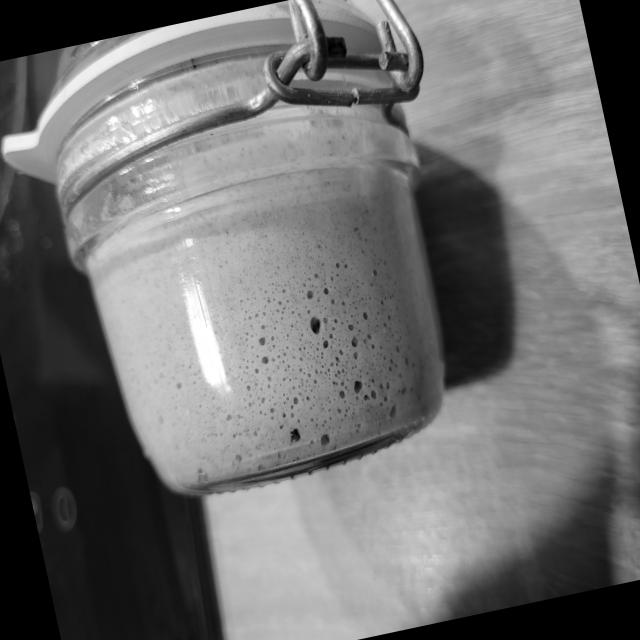bubble: (310, 316, 320, 333), (290, 428, 300, 443), (354, 380, 362, 393), (320, 434, 329, 445), (306, 289, 313, 298), (259, 336, 265, 345), (351, 337, 357, 346), (339, 390, 345, 398), (262, 356, 268, 363), (323, 340, 328, 348), (293, 396, 298, 404), (323, 287, 328, 294), (348, 323, 353, 329), (269, 407, 274, 413), (314, 368, 319, 374), (319, 261, 324, 267), (363, 312, 367, 319), (281, 376, 286, 381), (254, 312, 259, 317), (267, 375, 271, 381), (261, 397, 265, 403), (258, 409, 262, 415), (246, 385, 250, 390), (290, 412, 294, 417), (279, 424, 283, 429), (270, 335, 274, 340), (263, 288, 267, 293), (266, 297, 270, 302), (254, 368, 258, 373), (330, 361, 334, 366), (277, 300, 282, 304), (314, 272, 318, 277), (247, 314, 251, 319), (250, 358, 254, 363), (245, 331, 249, 336), (261, 324, 265, 328), (340, 381, 344, 385), (282, 351, 286, 355), (271, 357, 275, 361), (275, 307, 279, 311), (281, 392, 285, 396), (282, 412, 285, 417), (330, 275, 333, 280), (299, 356, 302, 361), (282, 288, 285, 292), (306, 396, 309, 400), (262, 311, 265, 315), (240, 297, 243, 301), (313, 379, 316, 383), (307, 372, 310, 376), (299, 367, 302, 371), (290, 323, 293, 327), (291, 310, 294, 314), (250, 334, 253, 337), (245, 364, 247, 368), (286, 396, 288, 400), (254, 295, 256, 299), (303, 282, 305, 285), (286, 334, 289, 336), (256, 354, 258, 357), (299, 347, 301, 350), (286, 299, 288, 302)
